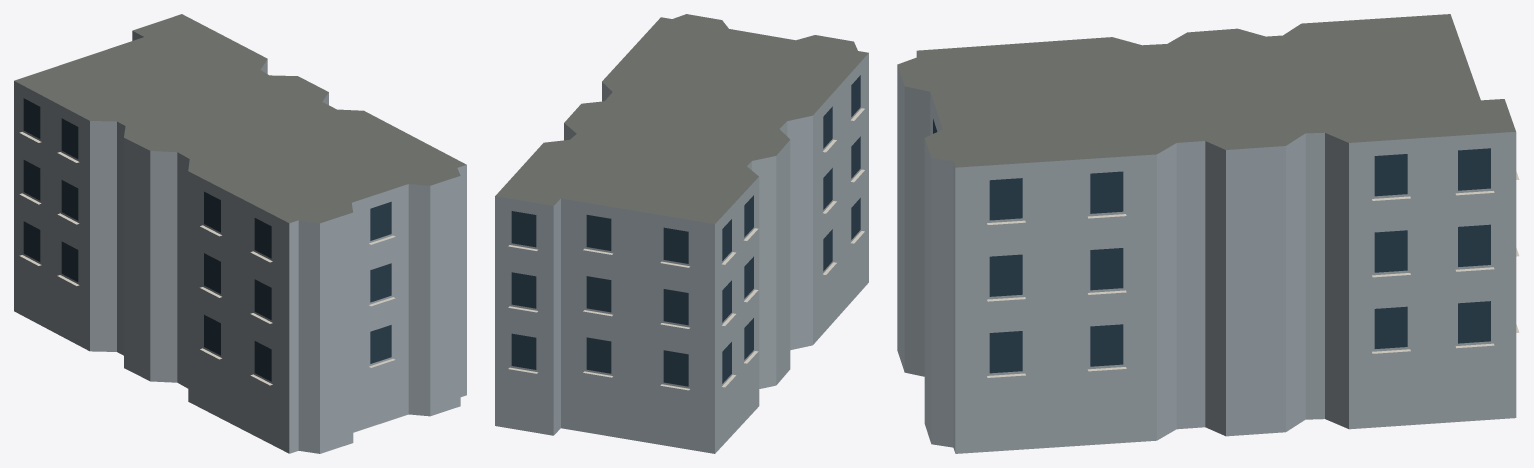
3 views of the same model, side by side, from view 1: azimuth 30°, elevation 25°; view 2: azimuth 150°, elevation 25°; view 3: azimuth 270°, elevation 25° (orthographic). The views are drawn at different scales.
Visible parts, largest first — view 1: Footprint 0, Inferred window bays, Window sills; view 2: Footprint 0, Inferred window bays, Window sills; view 3: Footprint 0, Inferred window bays, Window sills.
Part boxes in pixels (x1=…): Footprint 0: x1=14, y1=14, x2=466, y2=453; Inferred window bays: x1=23, y1=98, x2=391, y2=381; Window sills: x1=19, y1=132, x2=395, y2=385; Footprint 0: x1=495, y1=14, x2=868, y2=453; Inferred window bays: x1=511, y1=75, x2=860, y2=386; Window sills: x1=508, y1=108, x2=864, y2=390; Footprint 0: x1=897, y1=14, x2=1516, y2=453; Inferred window bays: x1=933, y1=119, x2=1490, y2=373; Window sills: x1=987, y1=171, x2=1519, y2=377.
Size of the model in its own units: 13.68 by 11.73 by 23.09.
